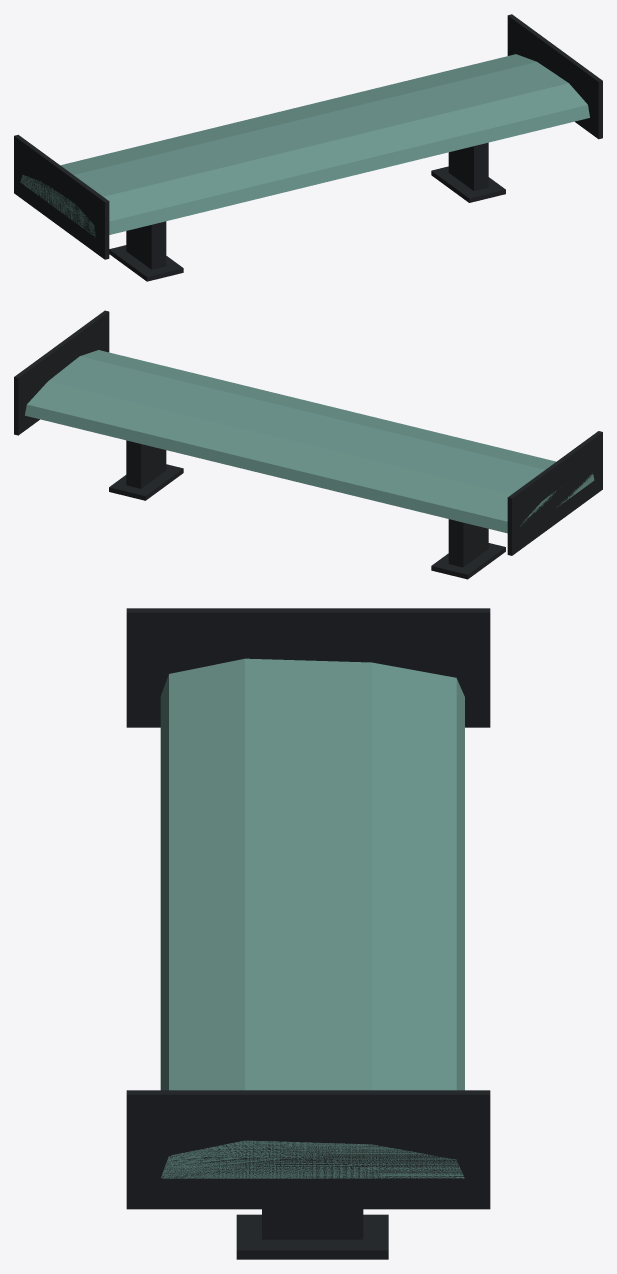
Rendered from spoiler_ducktail.glb.
The picture shows the model from 3 angles, top to bottom: view 1: azimuth 30°, elevation 25°; view 2: azimuth 150°, elevation 25°; view 3: azimuth 270°, elevation 25°; orthographic projection. The views are drawn at different scales.
Parts seen in each view (by area): view 1: wing, end_plates, feet; view 2: wing, end_plates, feet; view 3: wing, end_plates, feet.
Part boxes in pixels (left/top/right/bottom): wing: left=20, top=54, right=589, bottom=237; end_plates: left=14, top=14, right=602, bottom=259; feet: left=109, top=142, right=505, bottom=281; wing: left=25, top=350, right=594, bottom=533; end_plates: left=14, top=310, right=602, bottom=555; feet: left=109, top=440, right=505, bottom=579; wing: left=160, top=658, right=464, bottom=1178; end_plates: left=126, top=608, right=490, bottom=1209; feet: left=236, top=1209, right=388, bottom=1259.
Size of the model in its own units: 1.36 by 0.3039 by 0.43.
2 materials, 1 textured.
